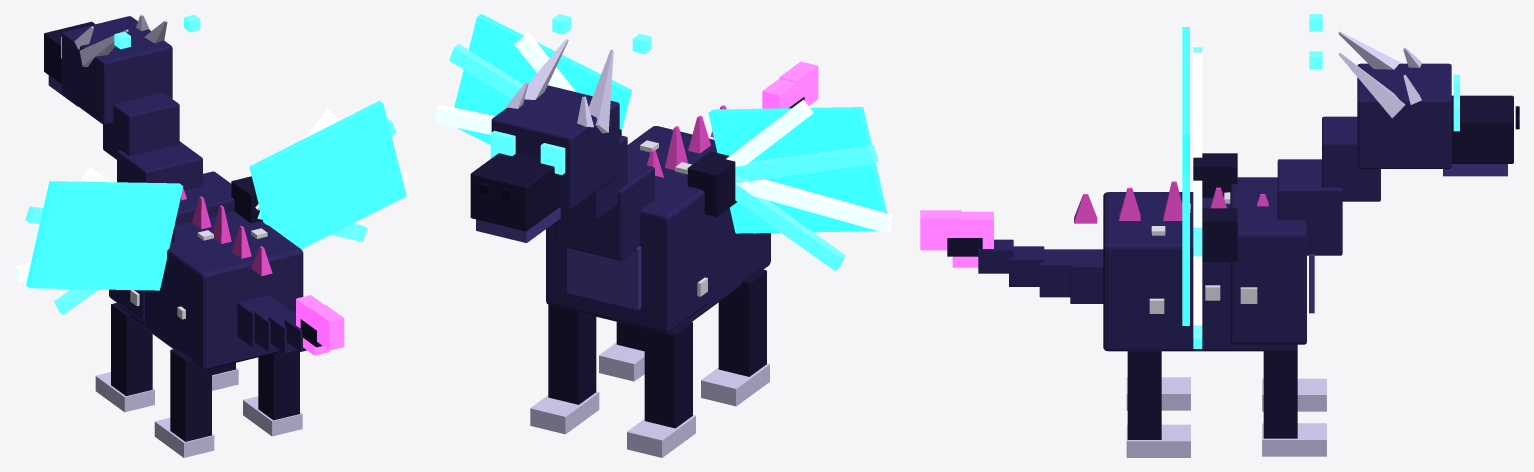
The model's file is cosmic-dragon.glb.
3 views of the same model, side by side, from view 1: azimuth 30°, elevation 25°; view 2: azimuth 150°, elevation 25°; view 3: azimuth 270°, elevation 25° (orthographic). The views are drawn at different scales.
Parts seen in each view (by area): view 1: body, wing.R, wing.L, head, tail, leg.BR, leg.FR, leg.BL, ear.R, leg.FL, ear.L; view 2: body, wing.R, head, wing.L, leg.FR, leg.FL, leg.BR, leg.BL, tail, ear.R, ear.L; view 3: body, head, tail, leg.BL, leg.FL, wing.L, wing.R, ear.L, leg.BR, leg.FR, ear.R.
Boxes of the visible parts, box(x1,y1,x2,y2) form: body: box(103, 92, 303, 370); wing.R: box(14, 167, 183, 314); wing.L: box(231, 101, 407, 249); head: box(44, 14, 172, 124); tail: box(237, 295, 344, 355); leg.BR: box(154, 348, 214, 457); leg.FR: box(95, 303, 154, 412); leg.BL: box(243, 350, 302, 436); ear.R: box(79, 29, 130, 66); leg.FL: box(212, 363, 238, 390); ear.L: box(144, 14, 200, 43); body: box(546, 105, 770, 333); wing.R: box(687, 99, 891, 270); head: box(470, 82, 619, 242); wing.L: box(436, 14, 631, 144); leg.FR: box(627, 321, 695, 457); leg.FL: box(530, 304, 599, 434); leg.BR: box(701, 268, 769, 406); leg.BL: box(599, 322, 644, 381); tail: box(762, 61, 818, 108); ear.R: box(588, 34, 651, 133); ear.L: box(524, 14, 571, 99); body: box(1074, 116, 1380, 351); head: box(1357, 47, 1519, 176); tail: box(920, 210, 1103, 303); leg.BL: box(1126, 347, 1190, 457); leg.FL: box(1262, 344, 1326, 456); wing.L: box(1182, 171, 1237, 348); wing.R: box(1182, 27, 1237, 197); ear.L: box(1309, 51, 1405, 118); leg.BR: box(1126, 377, 1190, 410); leg.FR: box(1262, 378, 1326, 411); ear.R: box(1309, 14, 1402, 69).
Bounding box in the file's own units: 1.1 × 0.951 × 1.32.
